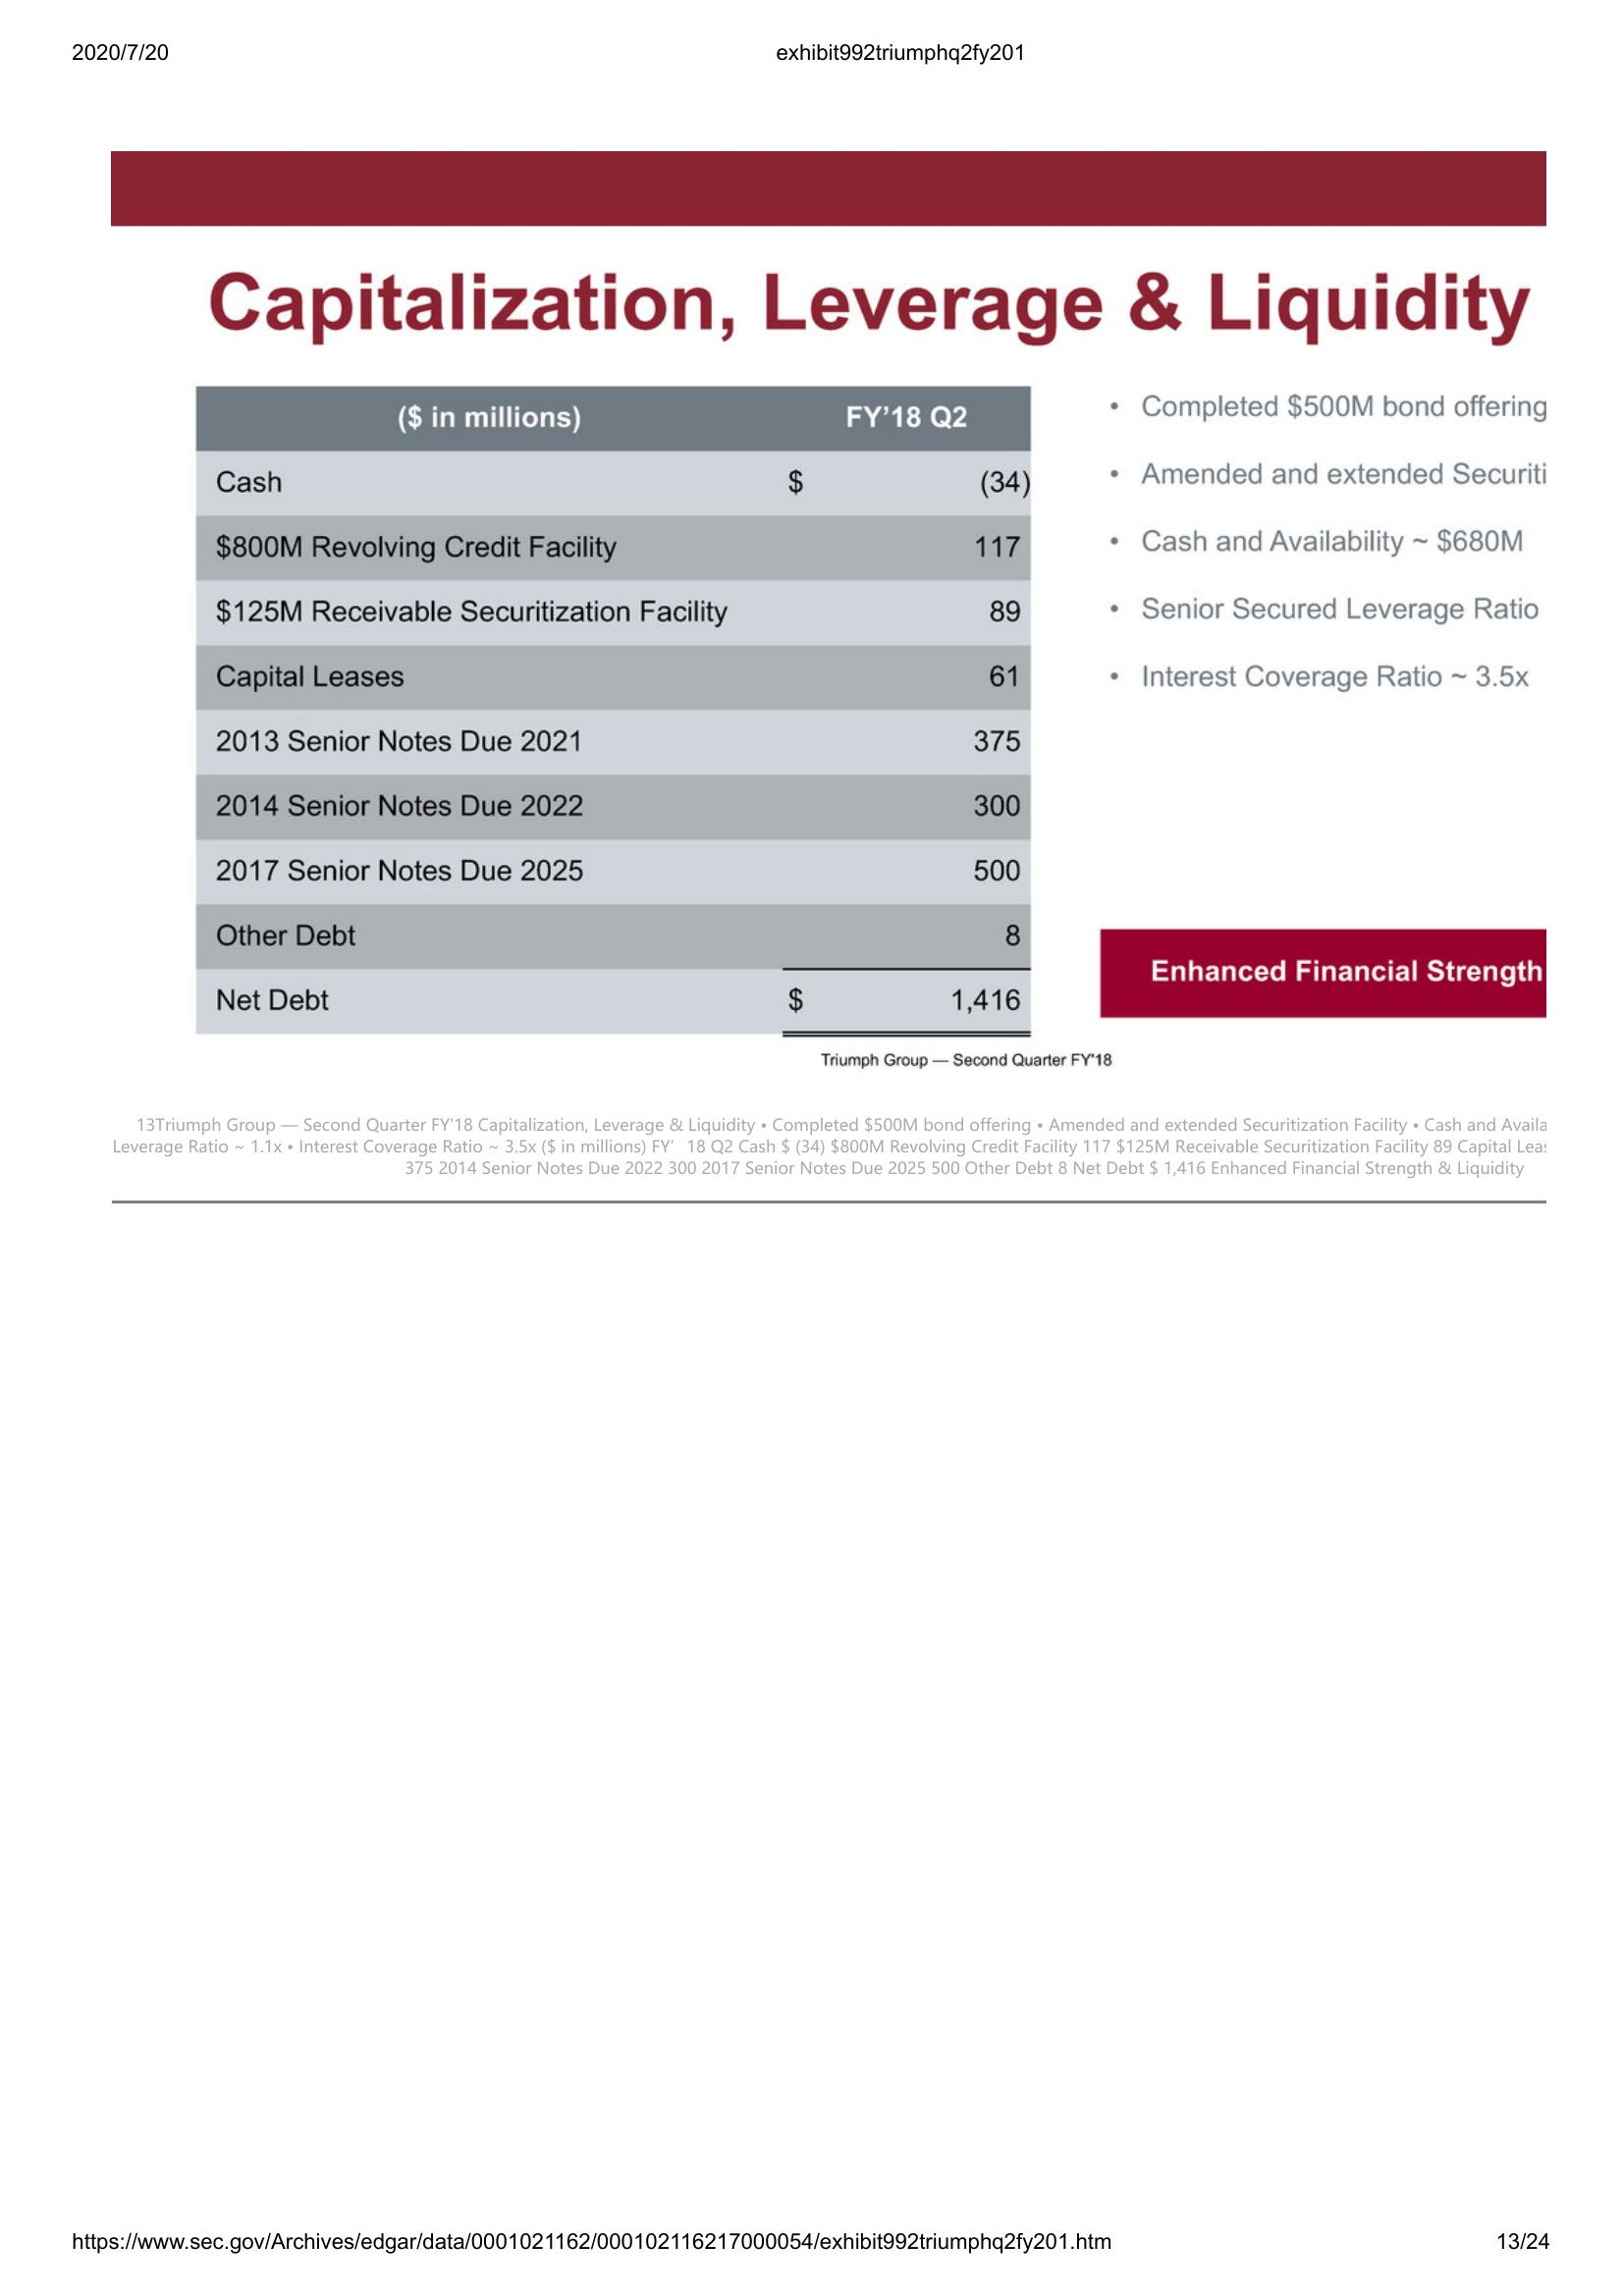table: (190, 383, 1028, 1043)
